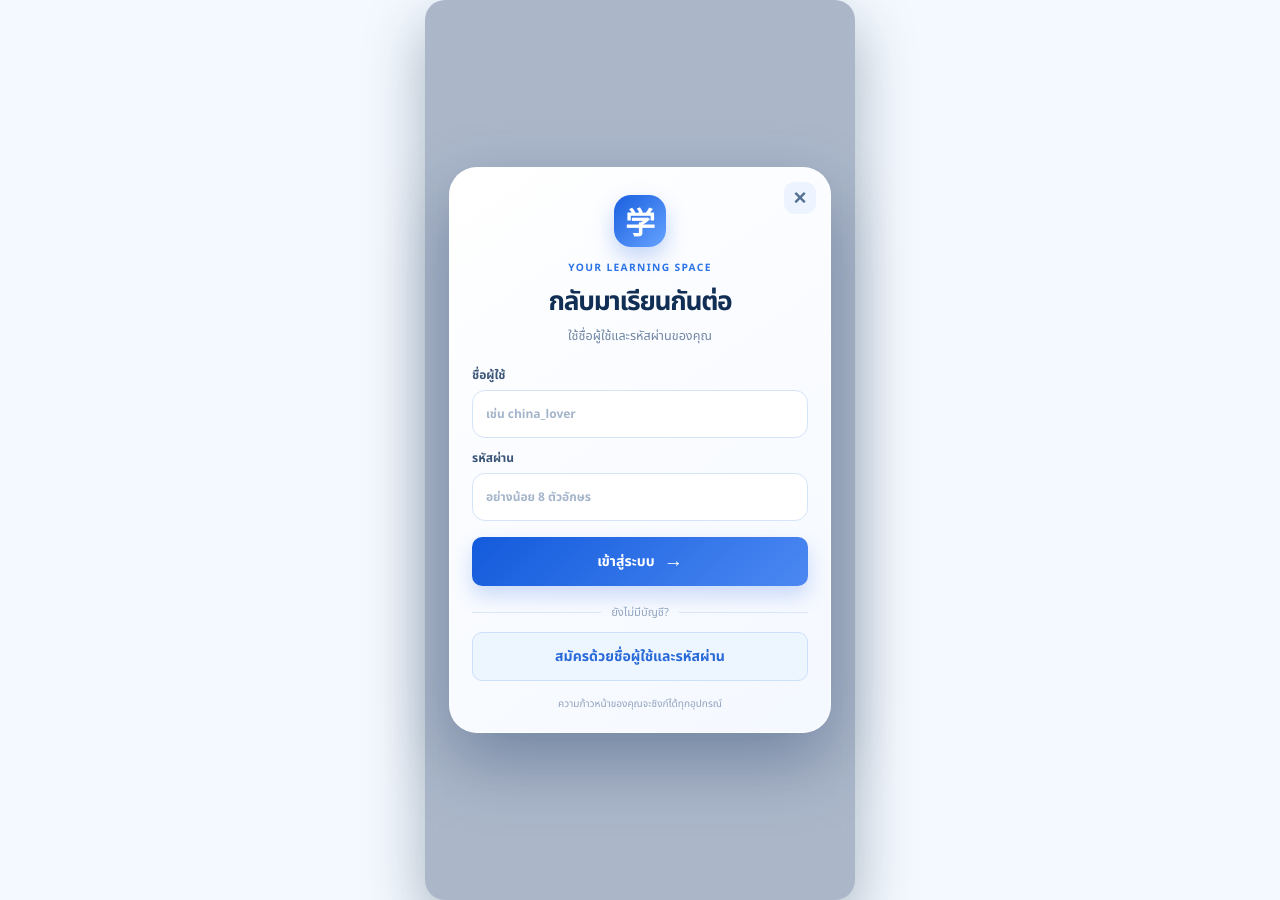
Test: creates an account with a username and password
Later steps or results of the test are not shown.
Expected: the heading "กลับมาเรียนกันต่อ" is shown, [549,282,731,322]
Expected: the text "ใช้ชื่อผู้ใช้และรหัสผ่านของคุณ" is shown, [568,327,712,346]
Click the button "สมัครด้วยชื่อผู้ใช้และรหัสผ่าน": click(640, 656) [472,632,808,681]
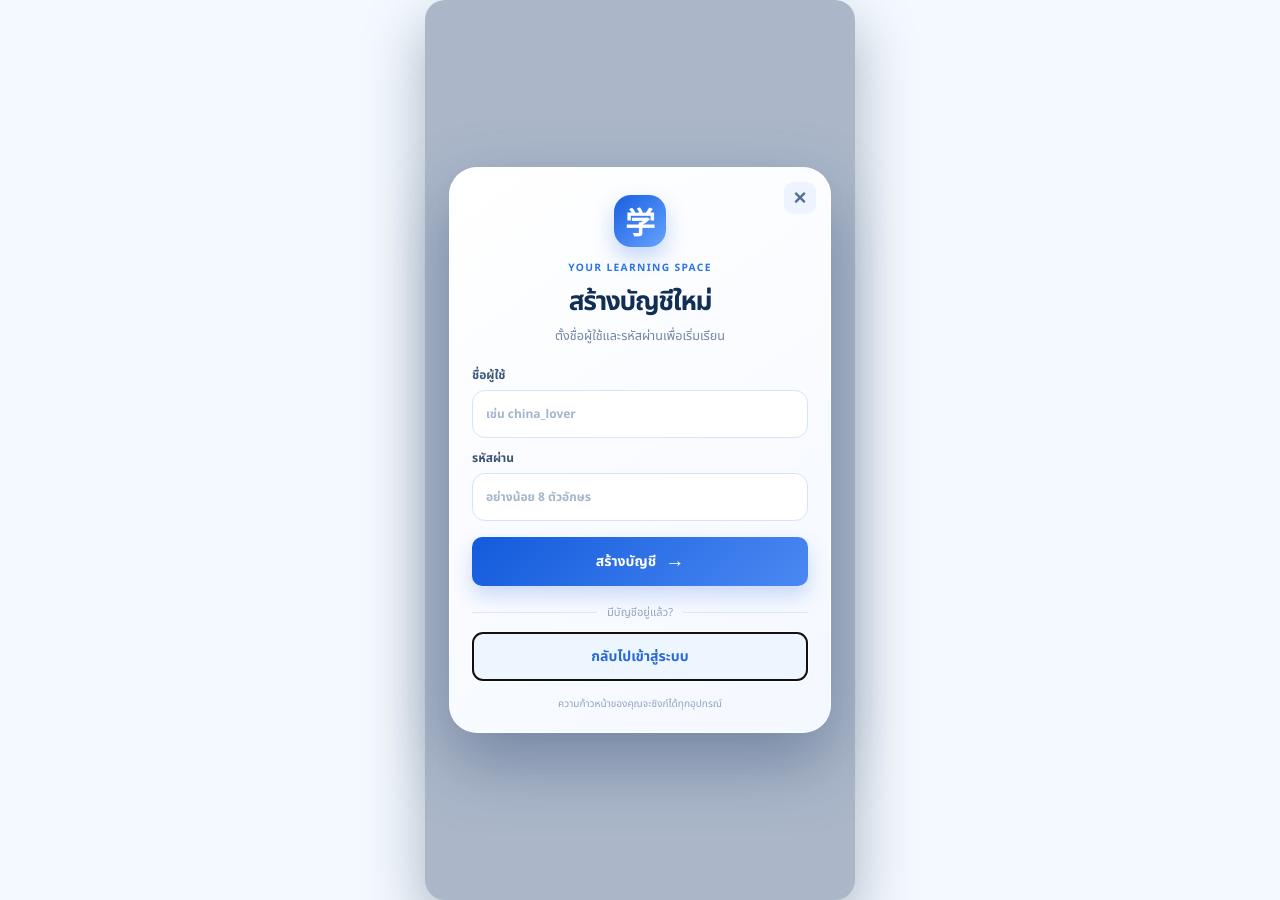
Expected: the heading "สร้างบัญชีใหม่" is shown, [569,282,711,322]
